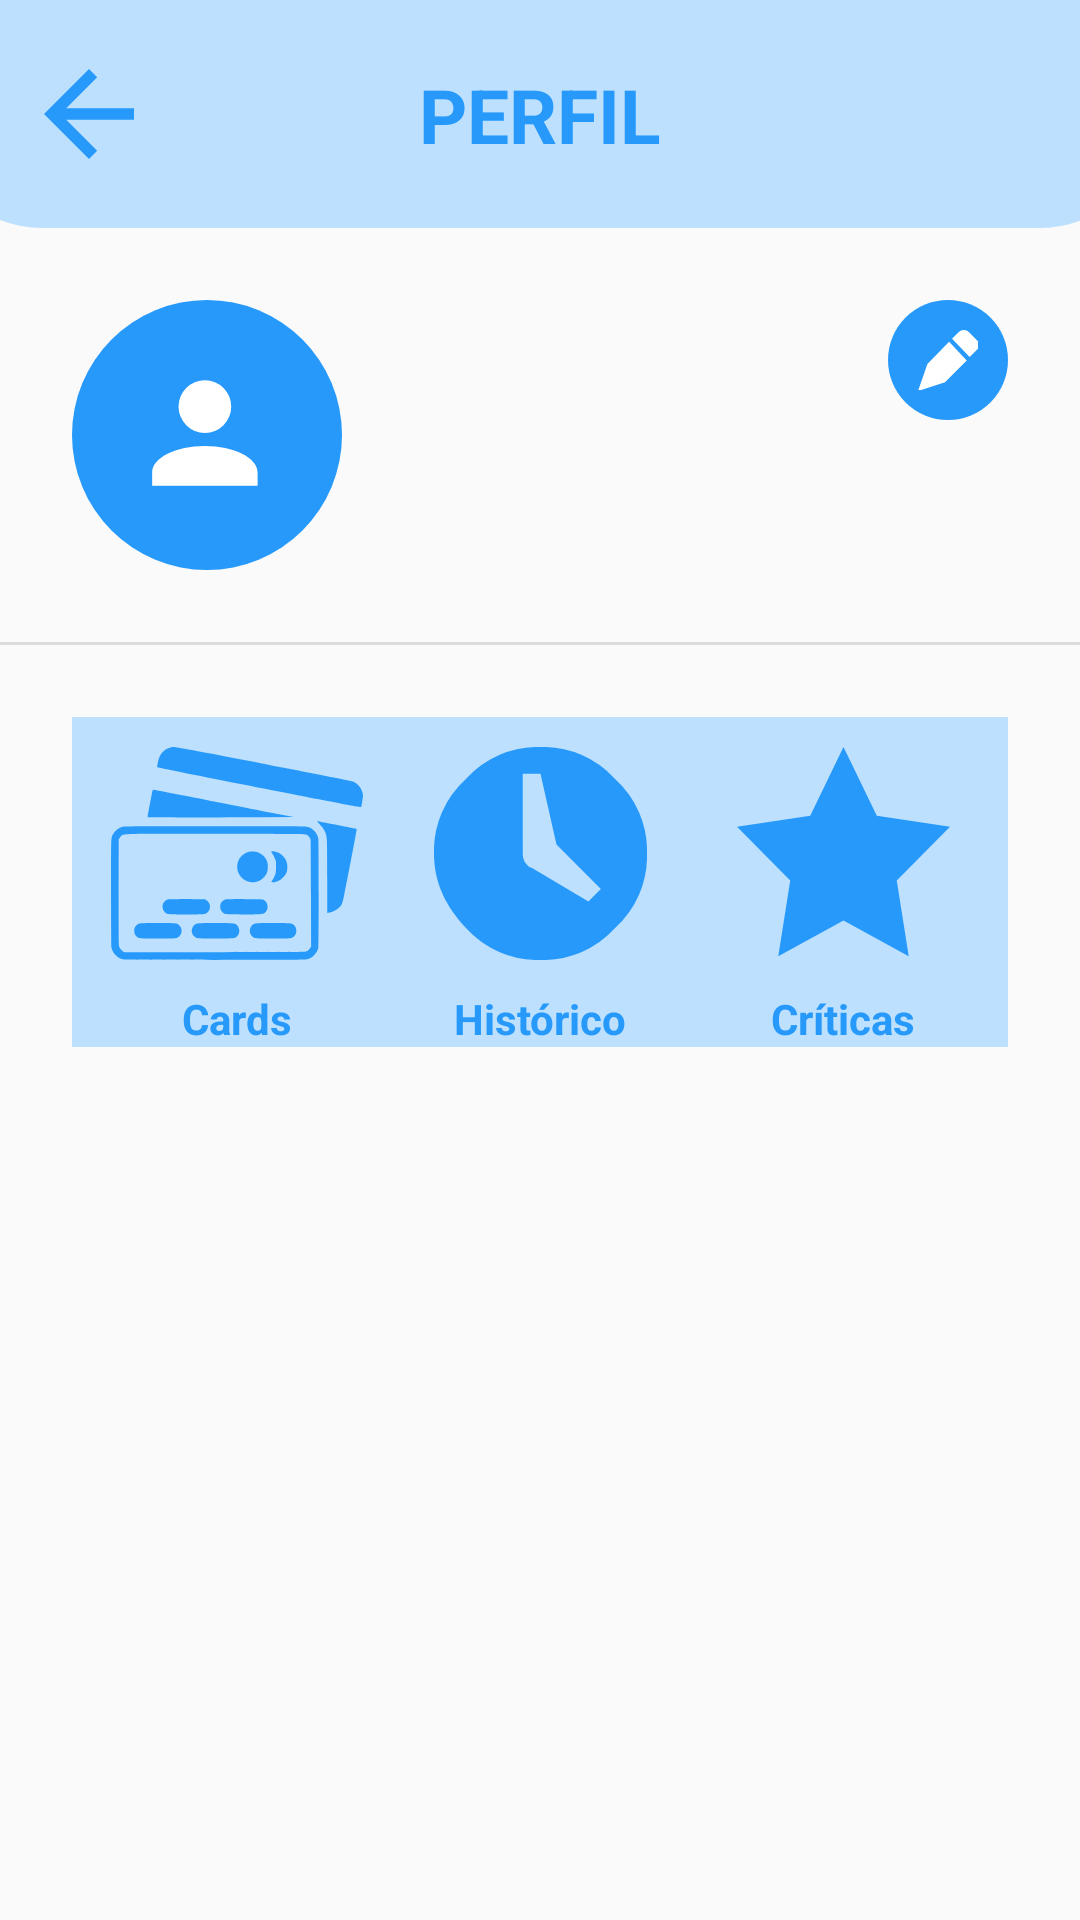

Where icons sit on this 1080w x 1920h app screen, as bbox=(x1, y1, x2, y2):
backward arrow: bbox=(44, 69, 134, 159)
editbutton: bbox=(888, 300, 1008, 420)
star: bbox=(737, 747, 950, 956)
time: bbox=(434, 747, 647, 960)
user: bbox=(72, 300, 342, 570)
